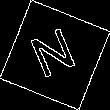N_SE: (27, 24, 83, 86)
